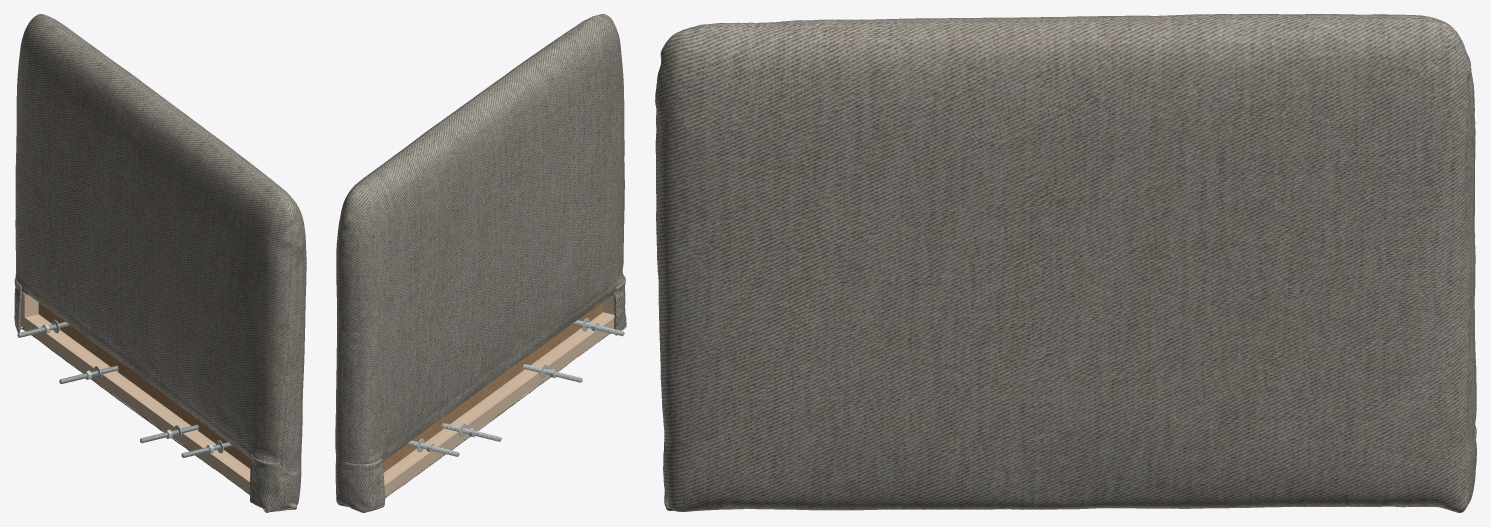
3 renders of one model, left to right at view 1: azimuth 30°, elevation 25°; view 2: azimuth 150°, elevation 25°; view 3: azimuth 270°, elevation 25°, orthographic. The views are drawn at different scales.
Visible parts, largest first — view 1: 40454485-SÃƒâ€“DERHAMN001; view 2: 40454485-SÃƒâ€“DERHAMN001; view 3: 40454485-SÃƒâ€“DERHAMN001.
Part boxes in pixels (x1,y1,x2,y2): 40454485-SÃƒâ€“DERHAMN001: [14, 14, 306, 512]; 40454485-SÃƒâ€“DERHAMN001: [335, 14, 626, 512]; 40454485-SÃƒâ€“DERHAMN001: [655, 14, 1476, 512].
Size of the model in its own units: 0.1533 by 0.543 by 0.8253.
Materials: 1 (1 with a texture image).
